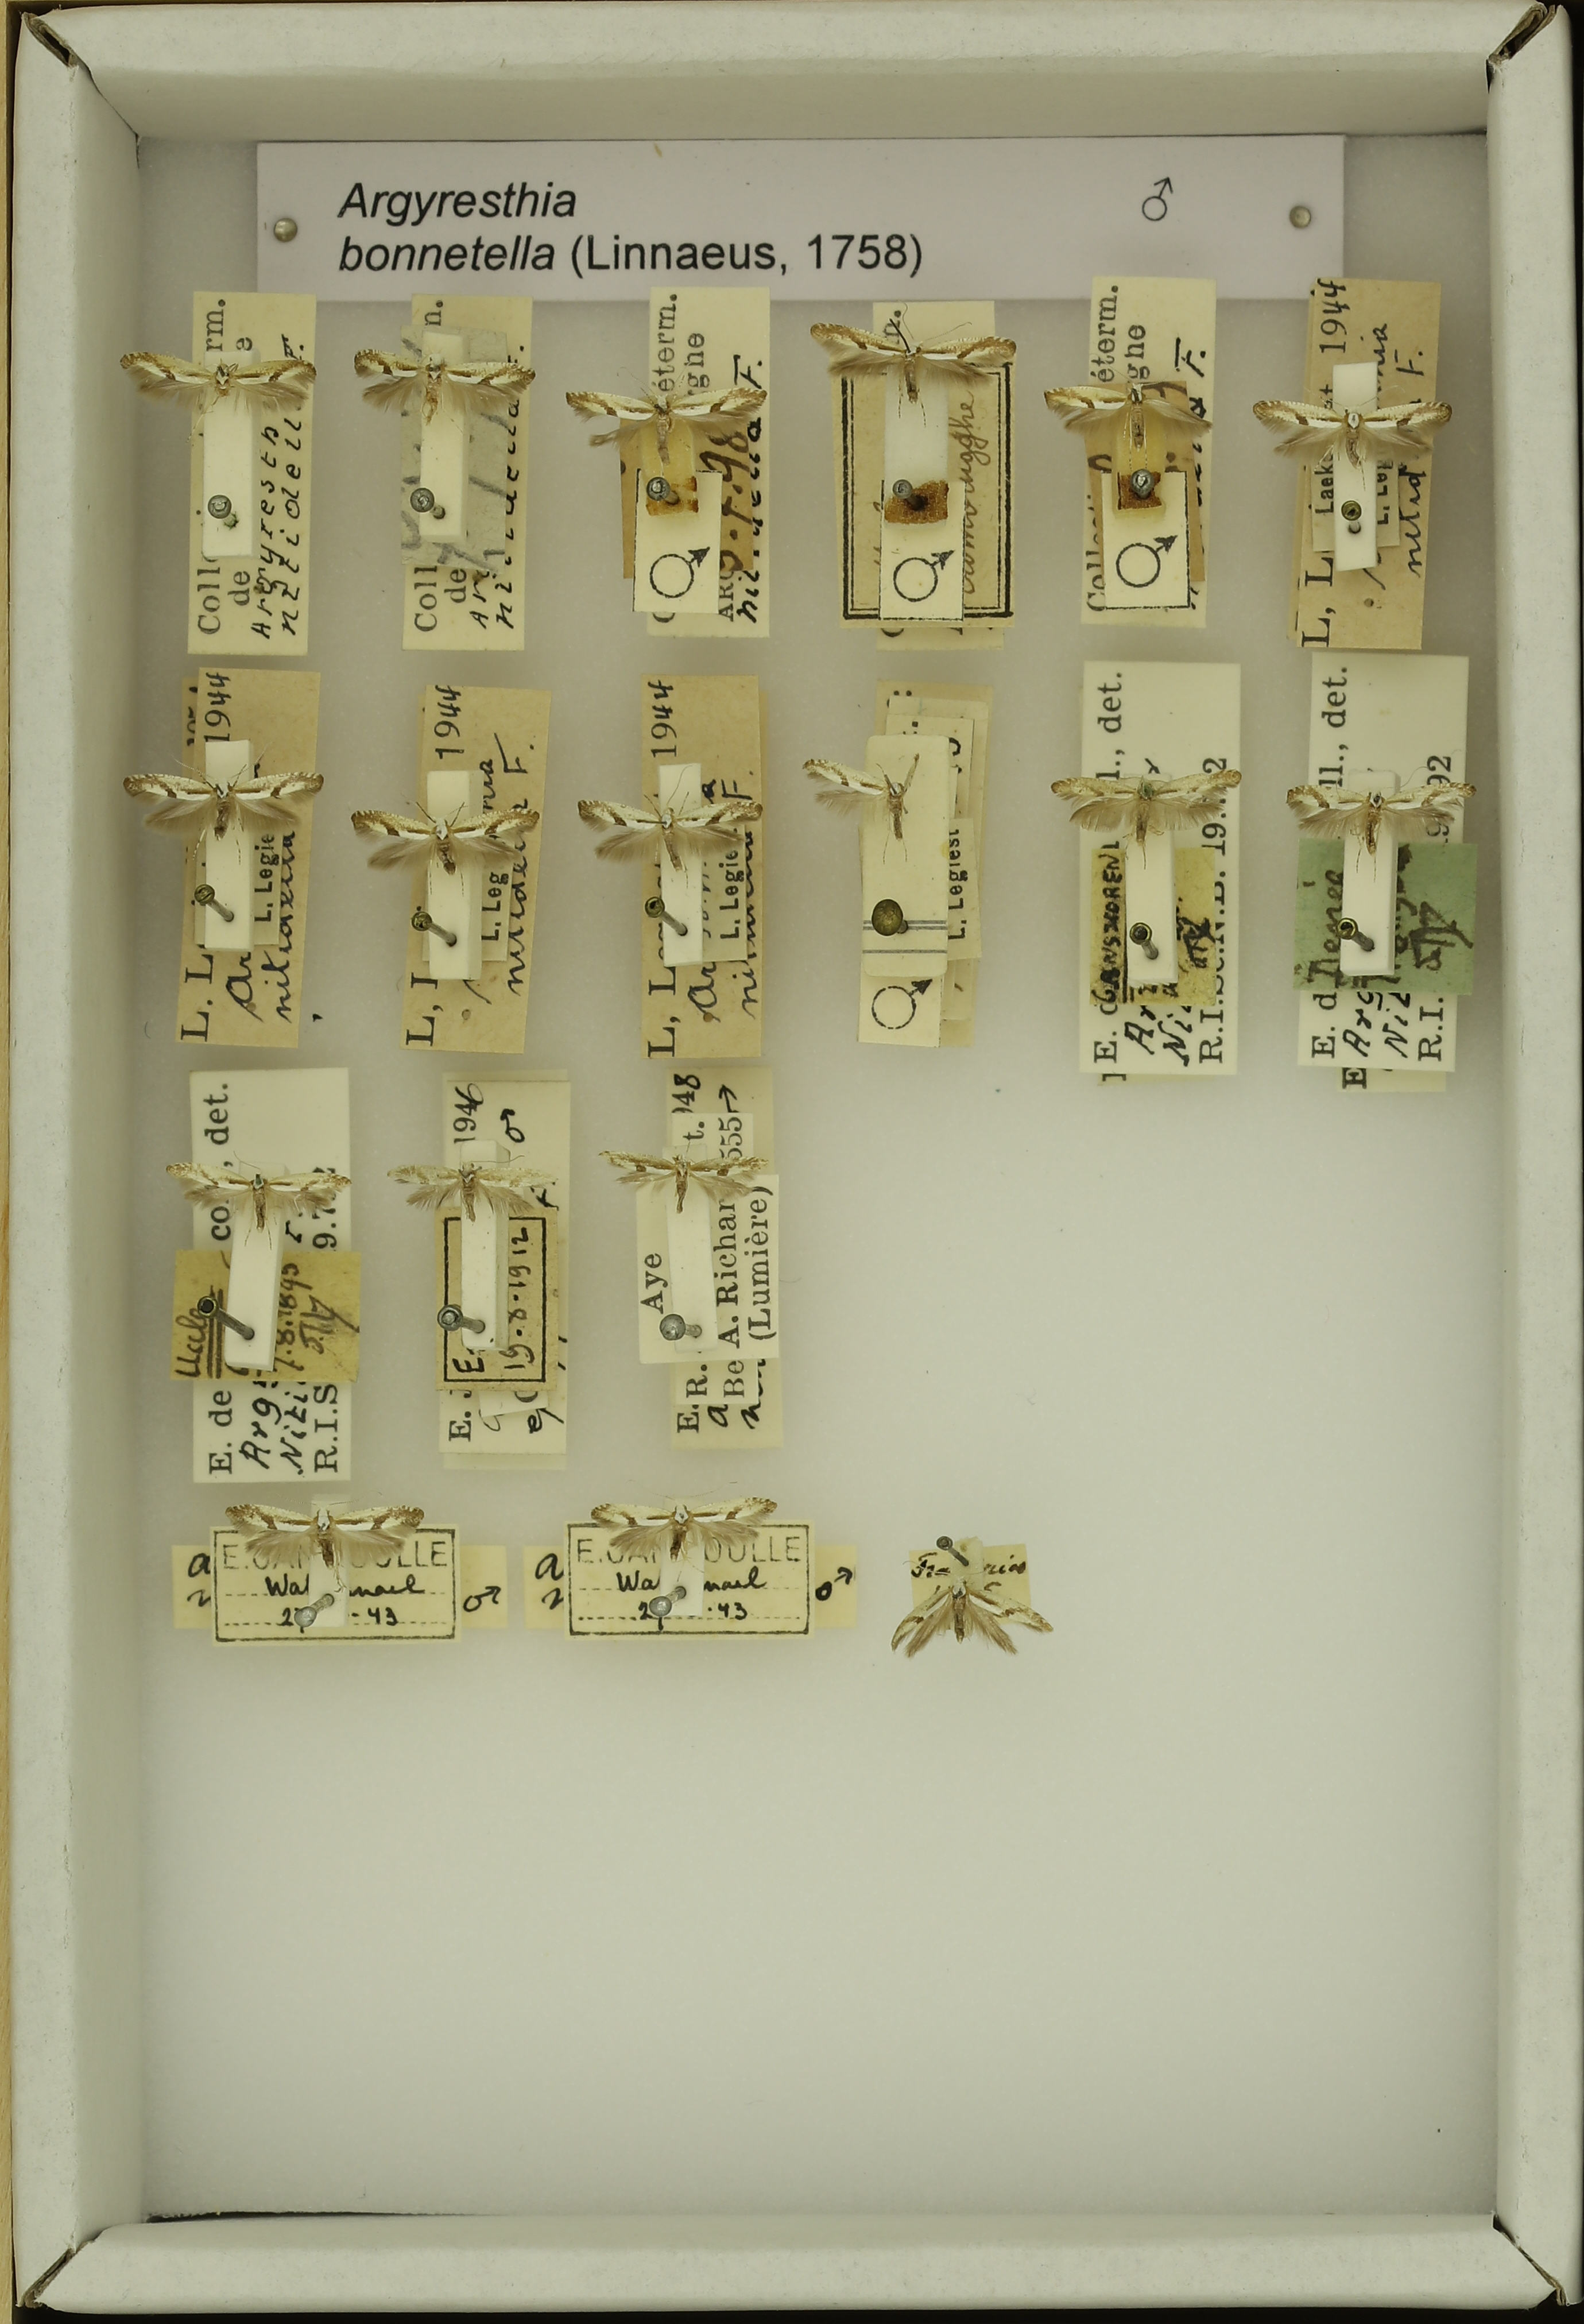insect: (800, 314, 1026, 424), (1245, 387, 1459, 498), (115, 759, 334, 867), (1044, 763, 1250, 871), (154, 1148, 360, 1256), (208, 1485, 438, 1581), (1277, 773, 1483, 876), (554, 378, 781, 466), (565, 786, 775, 878), (337, 791, 542, 883), (115, 339, 320, 424), (343, 343, 546, 427), (793, 743, 925, 871), (883, 1570, 1061, 1664), (585, 1480, 786, 1561), (588, 1137, 775, 1224), (1044, 371, 1224, 454), (381, 1157, 563, 1231)
